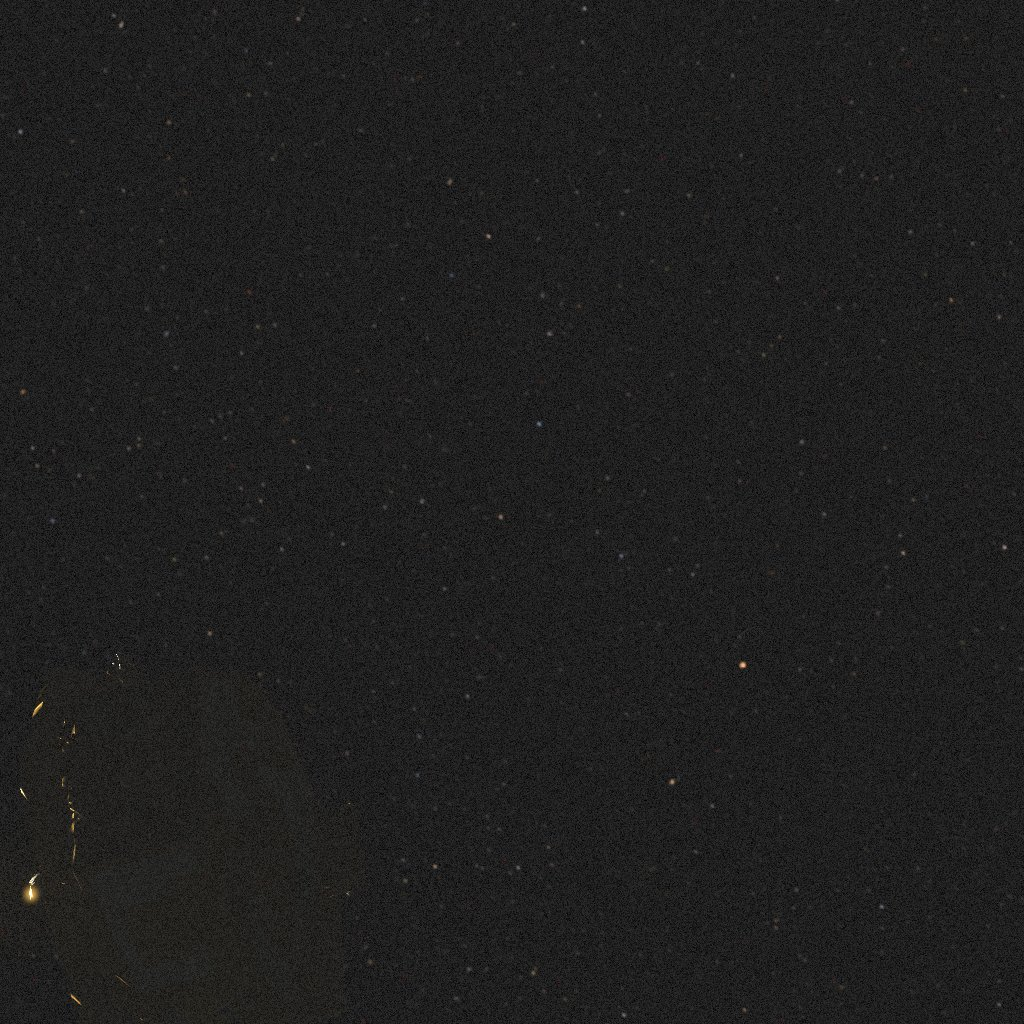lisa_pathfinder: (18, 652, 372, 1024)
